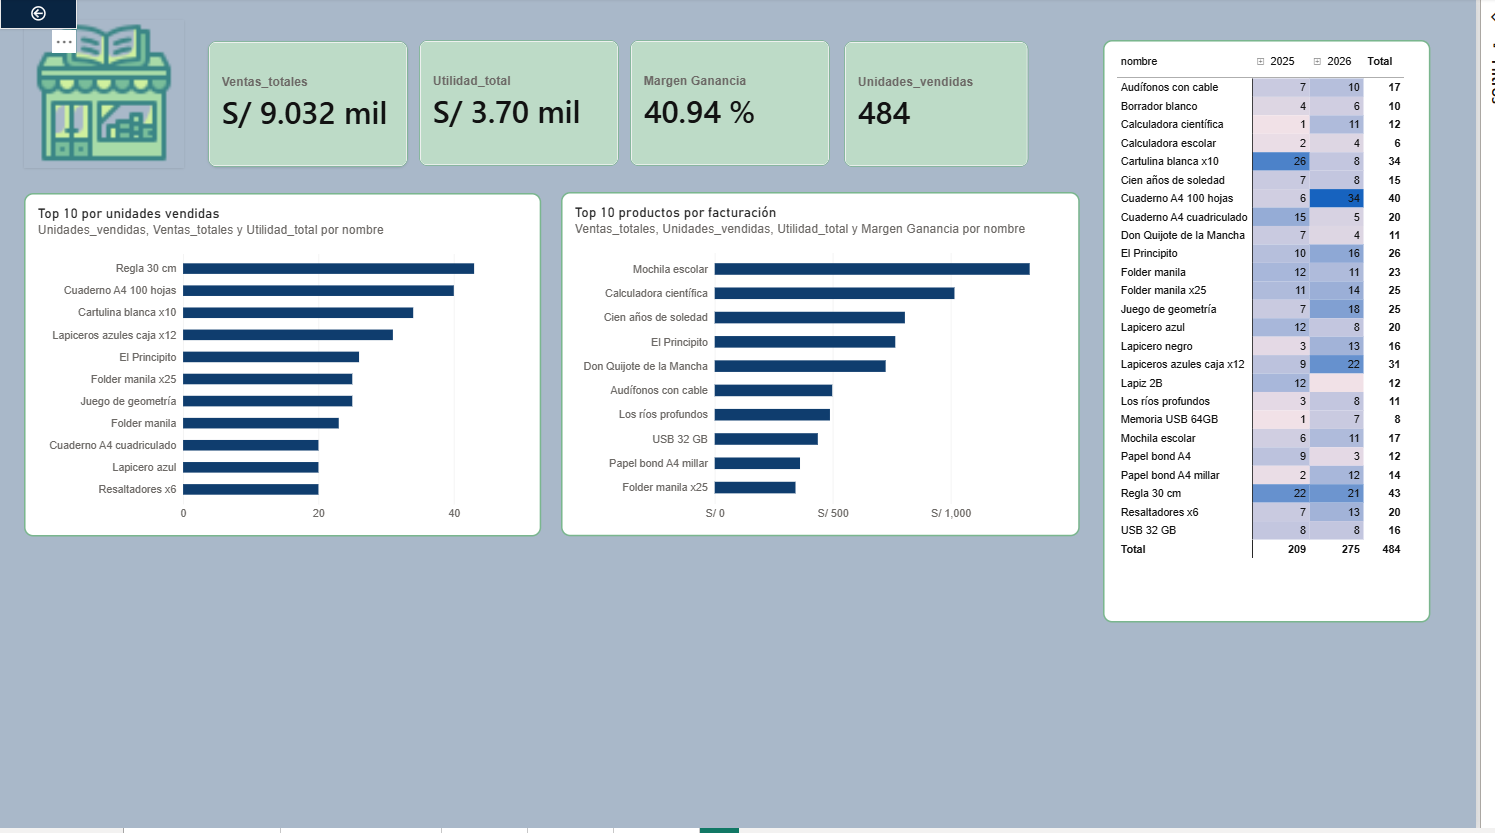

Layout of this report page (visuals, bound fields, positions):
{"tool":"powerbi","page":{"name":"ANALISIS_PRODUCTO","canvas":[1920,1080],"ordinal":4},"visuals":[{"type":"clusteredBarChart","title":"Top 10 productos por facturación","fields":{"Category":["dim_producto.nombre"],"Y":["fac_ventas.Ventas_totales"]},"box":[730,252.5,675,447.5],"z":0},{"type":"pivotTable","fields":{"Columns":["dim_tiempo.fecha.Variación.Jerarquía de fechas.Año","dim_tiempo.fecha.Variación.Jerarquía de fechas.Mes"],"Rows":["dim_producto.nombre"],"Values":["fac_ventas.Unidades_vendidas"]},"box":[1435,55,426,758],"z":1000},{"type":"image","box":[31.7,28.3,208.3,191.7],"z":2000},{"type":"clusteredBarChart","title":"Top 10 por unidades vendidas","fields":{"Category":["dim_producto.nombre"],"Y":["fac_ventas.Unidades_vendidas"]},"box":[31.7,253.3,673.3,446.7],"z":3000},{"type":"cardVisual","fields":{"Data":["fac_ventas.Ventas_totales"]},"box":[270,56,260,164],"z":5000},{"type":"cardVisual","fields":{"Data":["fac_ventas.Utilidad_total"]},"box":[545,55,260,164],"z":6000},{"type":"cardVisual","fields":{"Data":["fac_ventas.Margen Ganancia"]},"box":[820,55,260,164],"z":7000},{"type":"cardVisual","fields":{"Data":["fac_ventas.Unidades_vendidas"]},"box":[1098,56,240,164],"z":8000}]}

Visuals, with their boxes on the page's 1920x1080 design canvas (x1, y1, x2, y2). These are canvas units, not pixel positions in the 1495x833 screenshot, which may show the page scaled, cropped or inside an application window:
"Top 10 productos por facturación" clusteredBarChart: [left=730, top=252, right=1405, bottom=700]
pivotTable - dim_tiempo.fecha.Variación.Jerarquía de fechas.Año x dim_tiempo.fecha.Variación.Jerarquía de fechas.Mes: [left=1435, top=55, right=1861, bottom=813]
image: [left=32, top=28, right=240, bottom=220]
"Top 10 por unidades vendidas" clusteredBarChart: [left=32, top=253, right=705, bottom=700]
cardVisual - fac_ventas.Ventas_totales: [left=270, top=56, right=530, bottom=220]
cardVisual - fac_ventas.Utilidad_total: [left=545, top=55, right=805, bottom=219]
cardVisual - fac_ventas.Margen Ganancia: [left=820, top=55, right=1080, bottom=219]
cardVisual - fac_ventas.Unidades_vendidas: [left=1098, top=56, right=1338, bottom=220]
